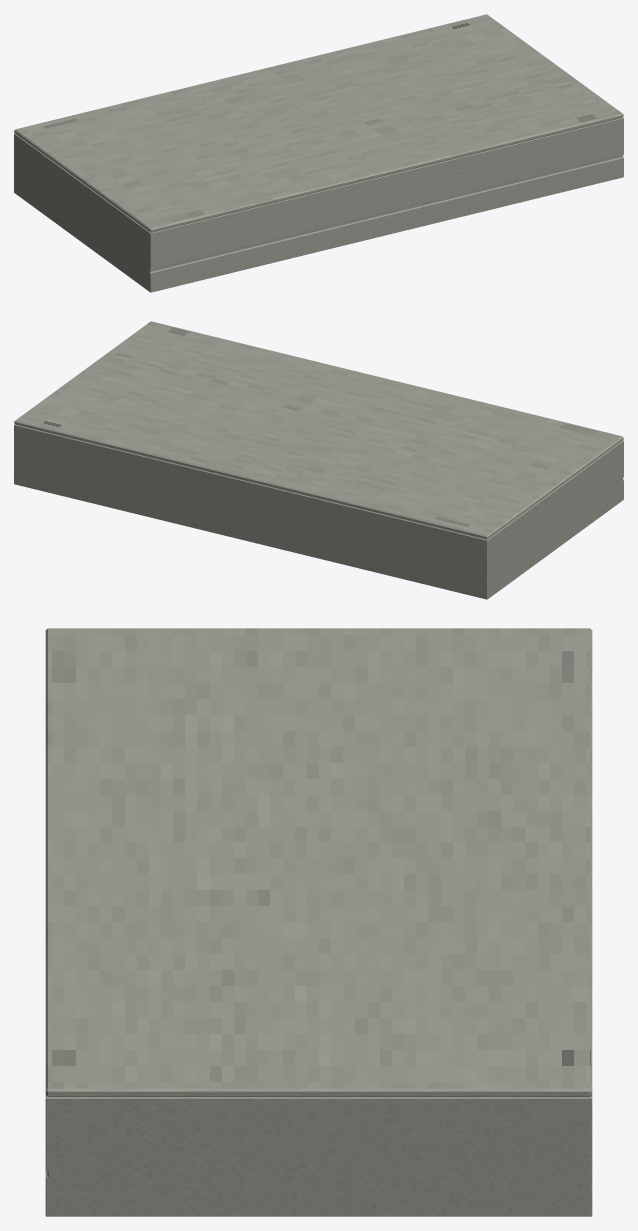
Rendered from concrete_step.glb.
3 renders of one model, top to bottom at view 1: azimuth 30°, elevation 25°; view 2: azimuth 150°, elevation 25°; view 3: azimuth 270°, elevation 25°, orthographic. The views are drawn at different scales.
Visible parts, largest first — view 1: concrete_step; view 2: concrete_step; view 3: concrete_step.
Boxes of the visible parts, x1,y1,x2,y2 form: concrete_step: (14, 14, 623, 292); concrete_step: (14, 321, 623, 599); concrete_step: (45, 628, 592, 1216).
Bounding box in the file's own units: 1.4 × 0.18 × 0.7.
2 materials, 2 textured.
